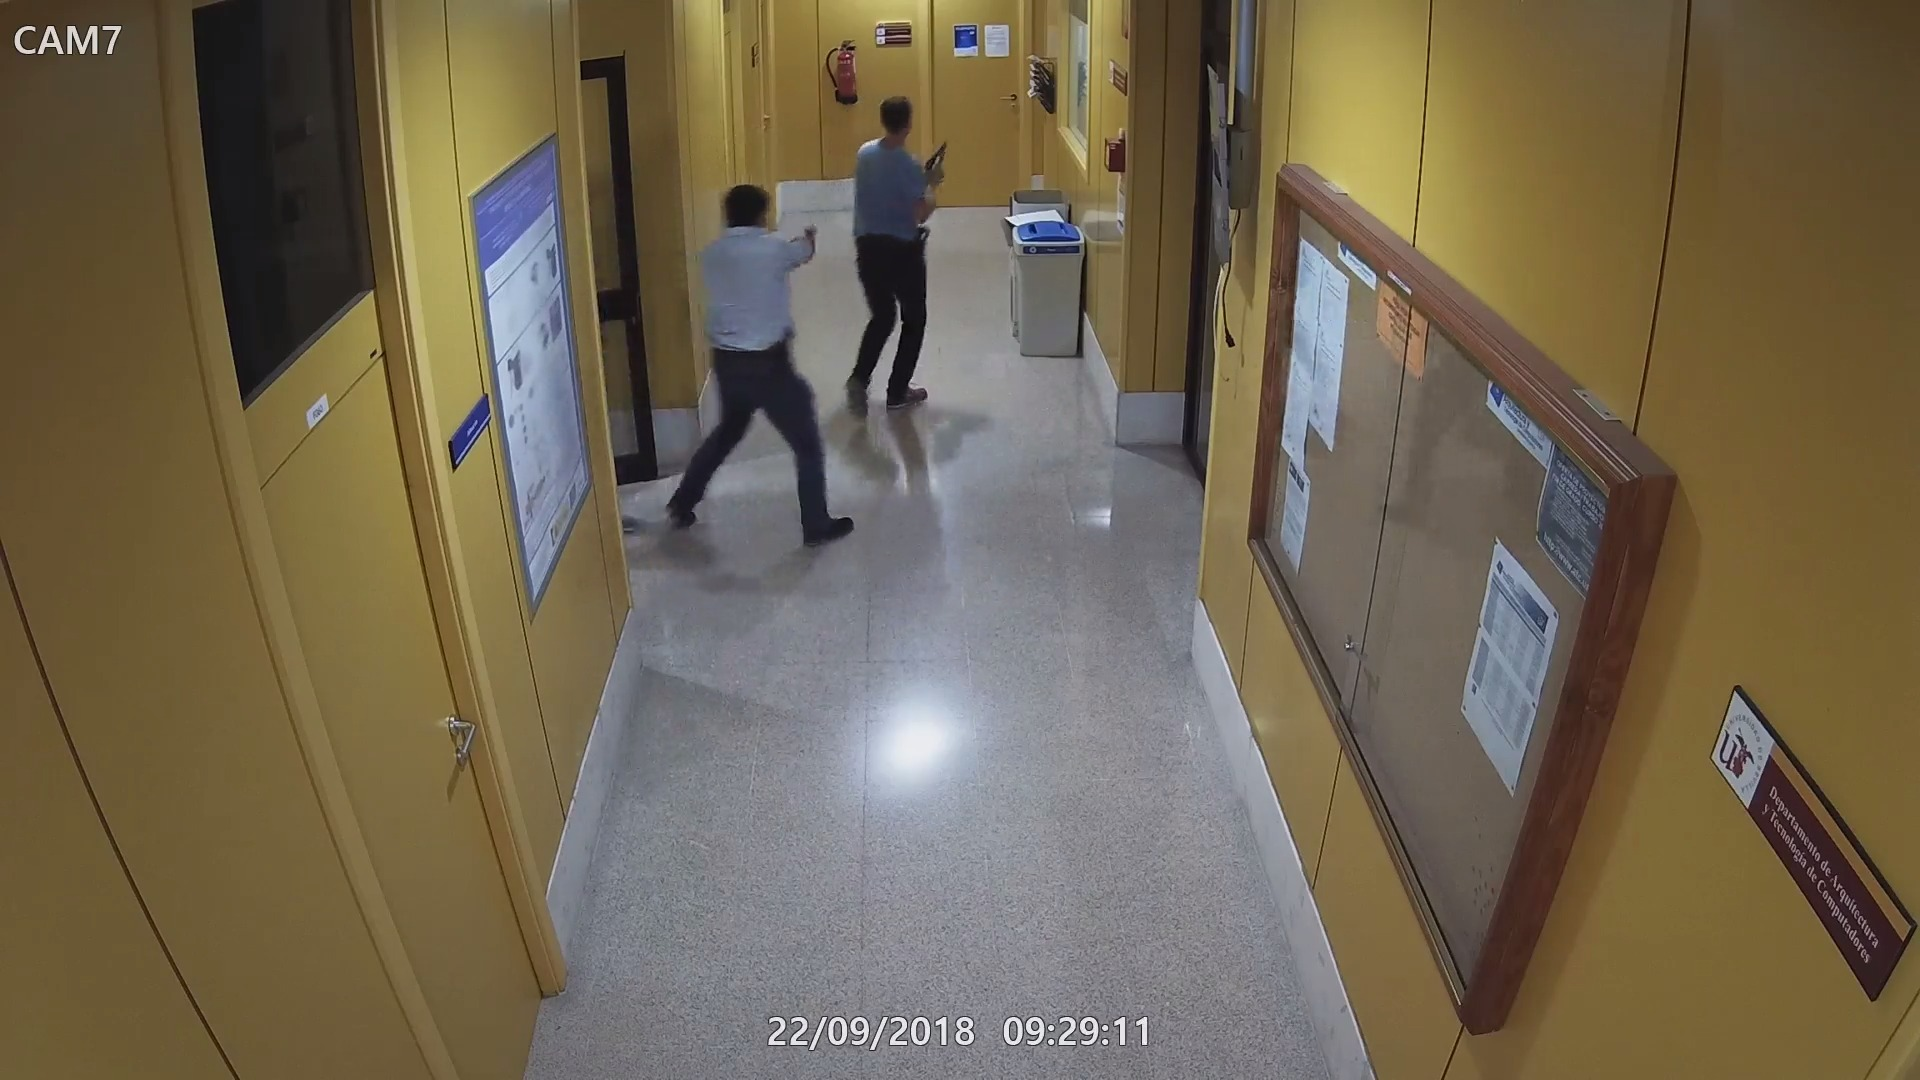Handgun: (924, 137, 949, 186), (796, 223, 823, 257)
